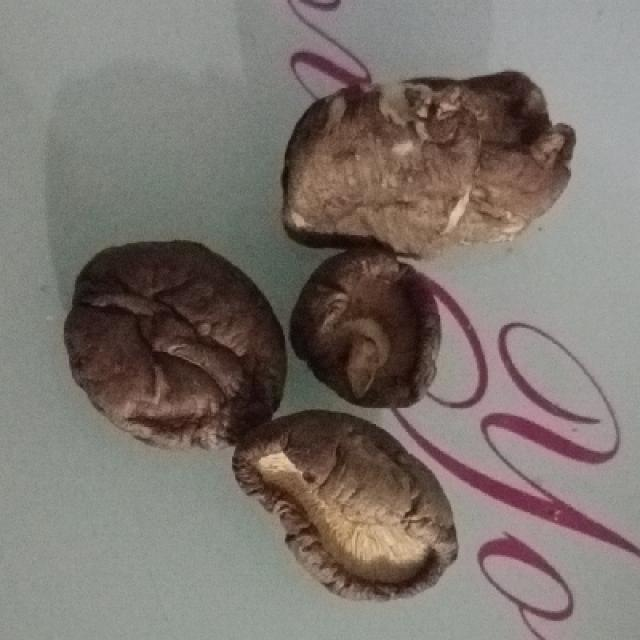Lentinus edodes: (277, 70, 577, 244), (66, 240, 286, 452), (231, 413, 460, 600), (292, 248, 445, 409)
